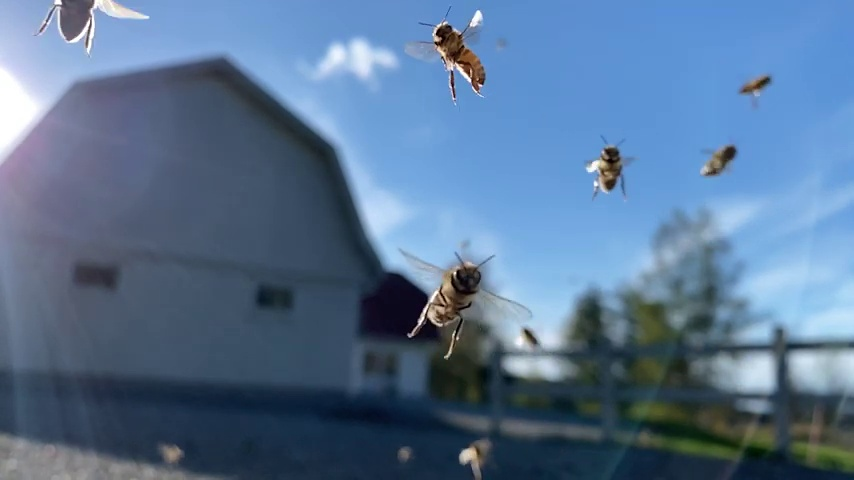insect: (392, 249, 530, 357), (401, 7, 492, 107), (33, 1, 151, 57), (580, 132, 634, 195), (454, 436, 495, 478), (700, 141, 741, 181), (733, 69, 774, 108)
